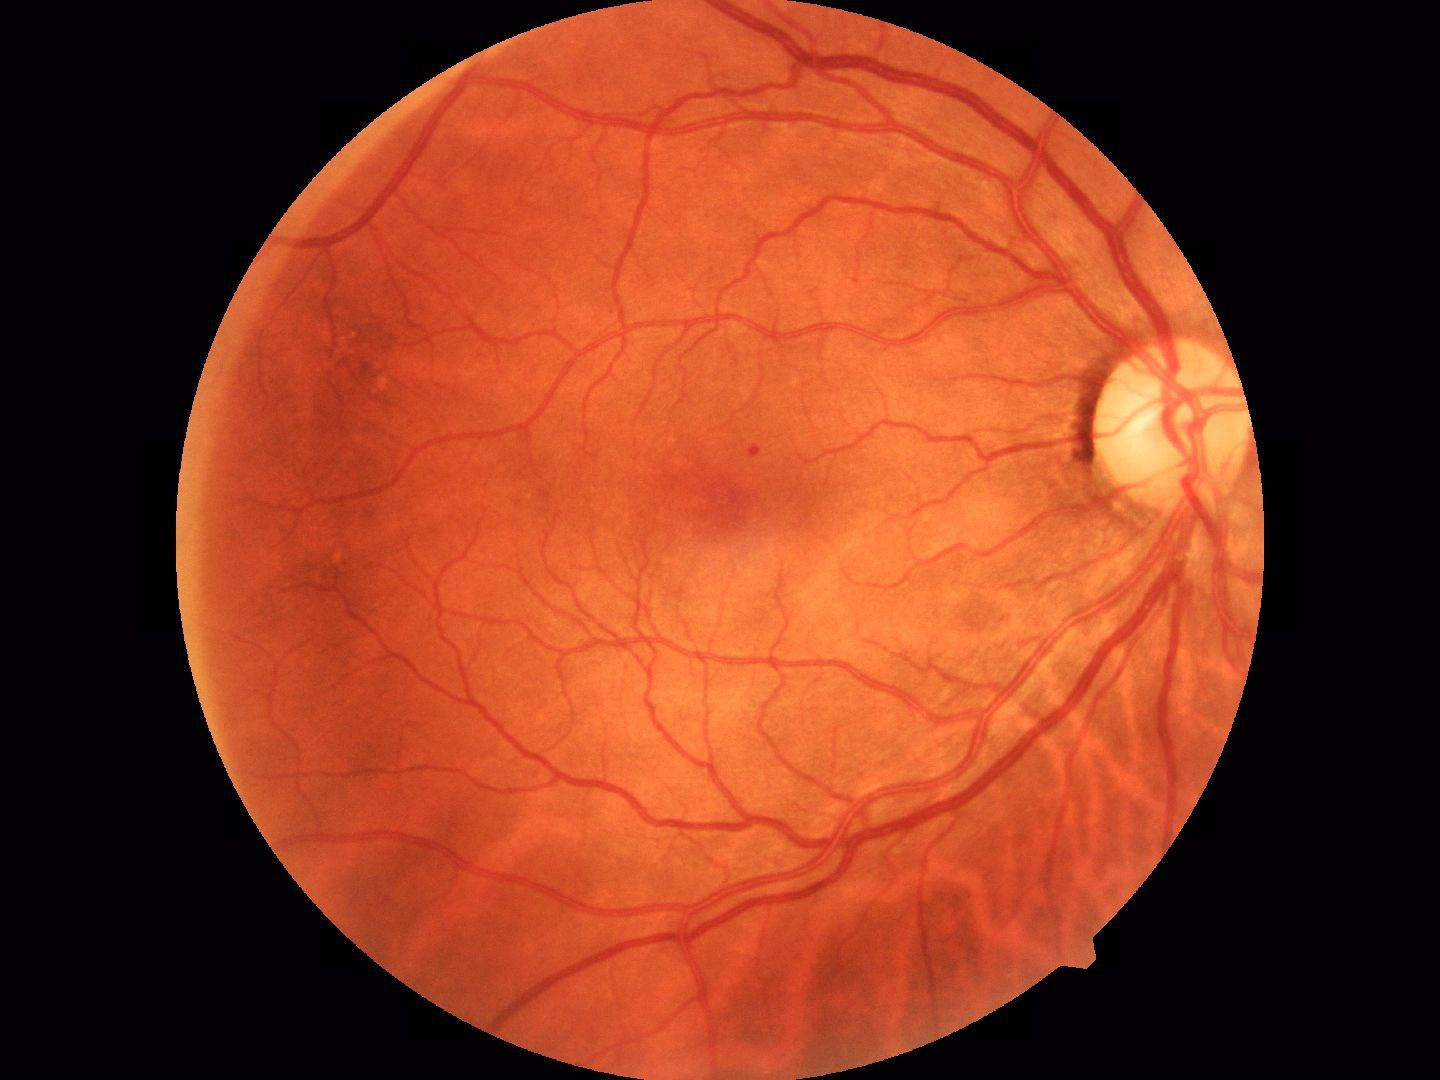Arterioles: (483, 574, 715, 860)
Hemorrhages: (659, 425, 849, 558)
Optic-Disc: (1100, 303, 1248, 517)
Venules: (878, 58, 1069, 321), (1106, 523, 1204, 759)
